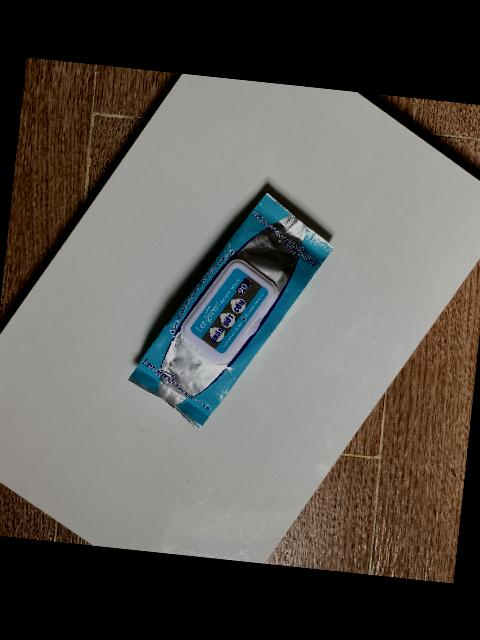Let-green_alcohol_wipes: (129, 193, 334, 427)
